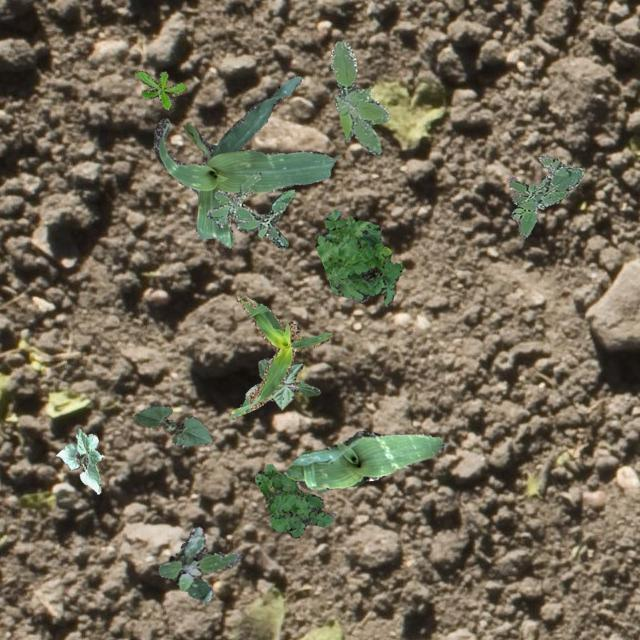crop: (152, 75, 338, 246), (228, 294, 330, 418), (282, 430, 444, 490), (244, 356, 318, 408), (134, 404, 212, 446), (56, 428, 102, 492)
weed: (314, 208, 402, 306), (329, 39, 388, 154), (206, 172, 294, 248), (508, 152, 582, 235), (158, 526, 238, 602), (254, 464, 334, 536), (134, 70, 184, 108)
